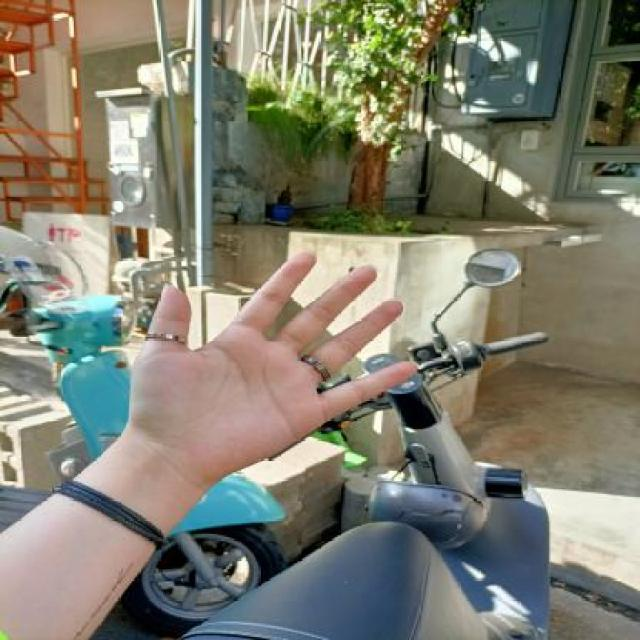bare_hand: (111, 234, 427, 496)
